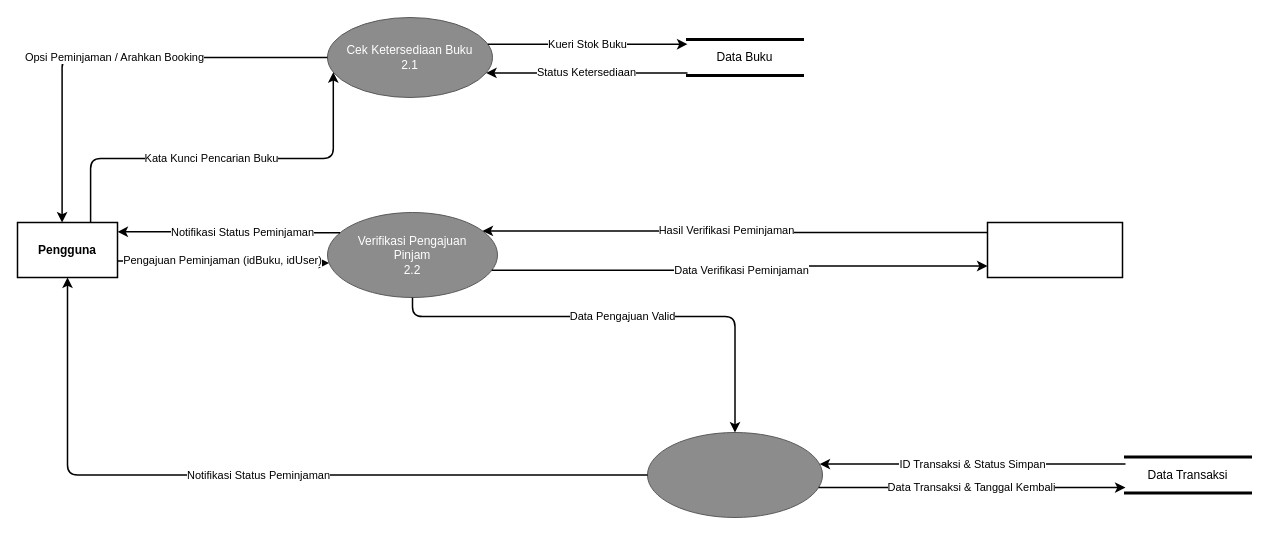
The diagram is 1270 pixels wide and 535 high, and some of its shapes have lost their labels. The shapes that lost their labels are listed below. From the top down, each one's centre as x and y in pixels, then its label:
At point 1054,249: "Staff Perpustakaan".
At point 734,475: "Catat Transaksi & Jatuh Tempo 2.3".
